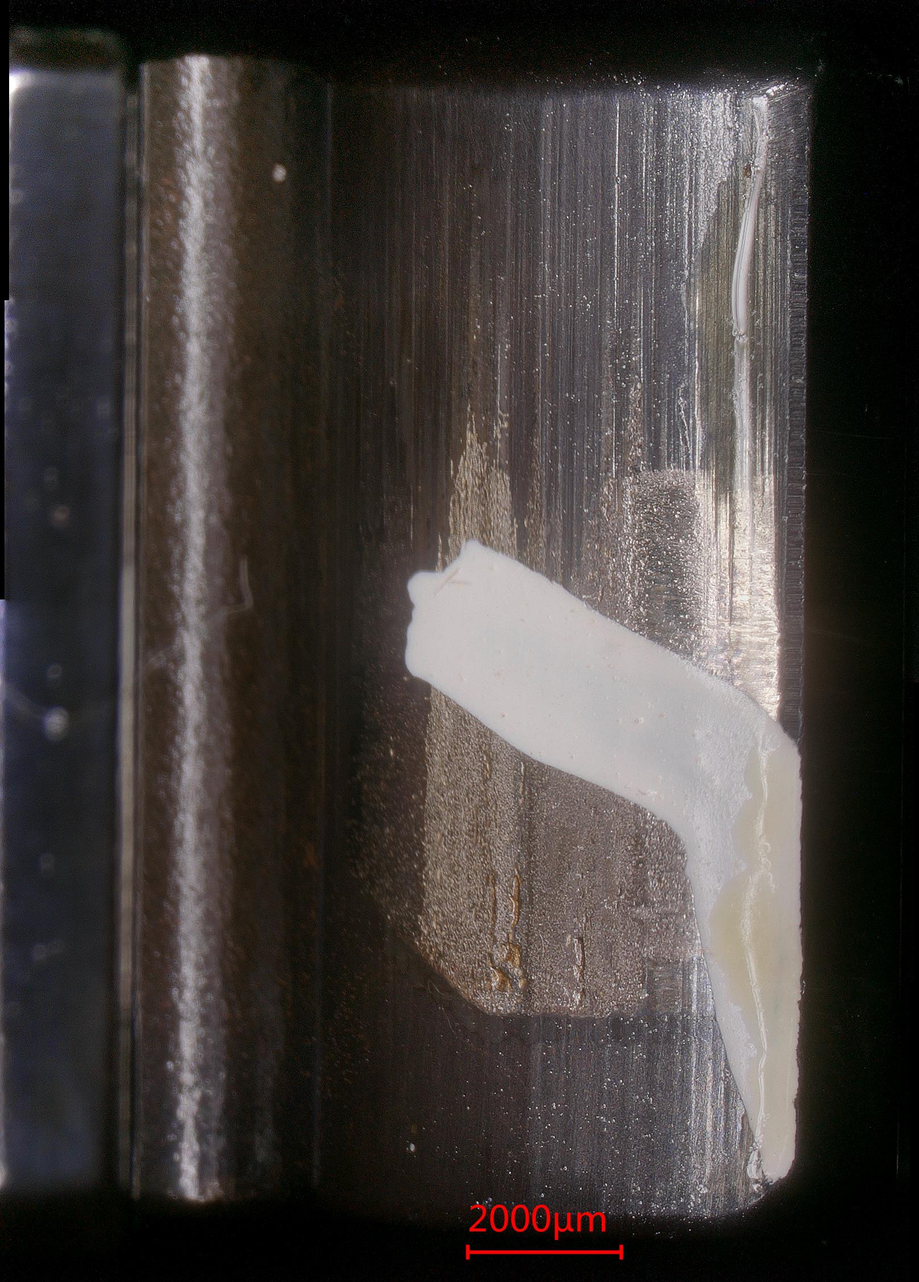Abrasion: (262, 88, 810, 1217)
